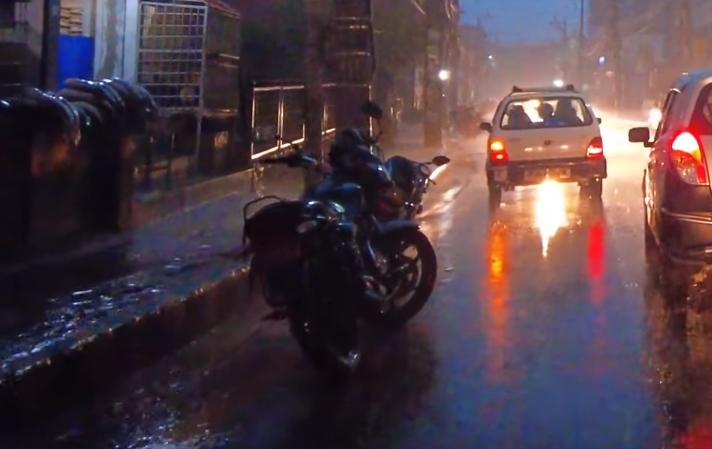bike: (236, 126, 439, 377)
